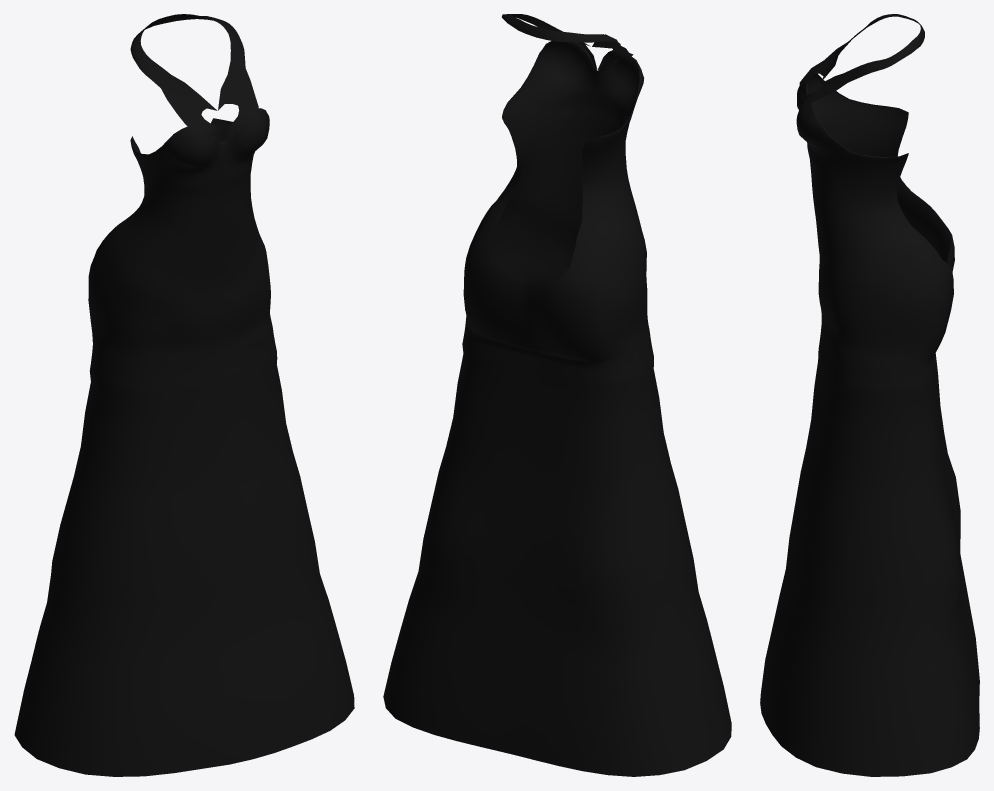
The model's file is weigher_skin_13.fbx.
3 views of the same model, side by side, from view 1: azimuth 30°, elevation 25°; view 2: azimuth 150°, elevation 25°; view 3: azimuth 270°, elevation 25° (orthographic). The views are drawn at different scales.
Parts seen in each view (by area): view 1: dress_12; view 2: dress_12; view 3: dress_12.
Part boxes in pixels (box(x1,y1,x2,y2)): dress_12: box(14, 14, 354, 776); dress_12: box(383, 14, 731, 776); dress_12: box(760, 14, 979, 776).
Size of the model in its own units: 0.7363 by 1.56 by 0.4602.
